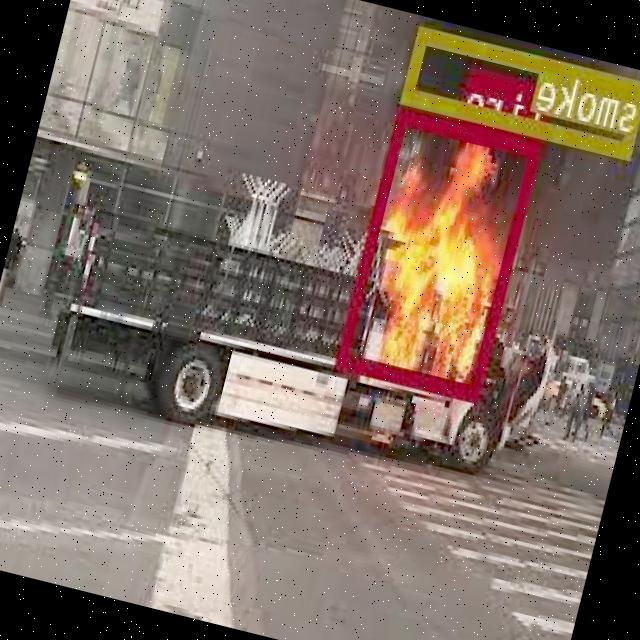fire: (338, 106, 544, 400)
smoke: (403, 24, 640, 158)
